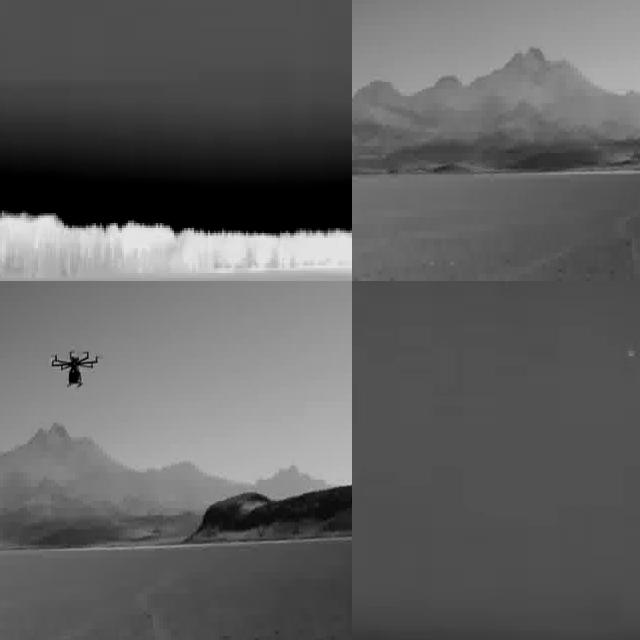0: (621, 343, 640, 368)
drone: (47, 340, 104, 396)
